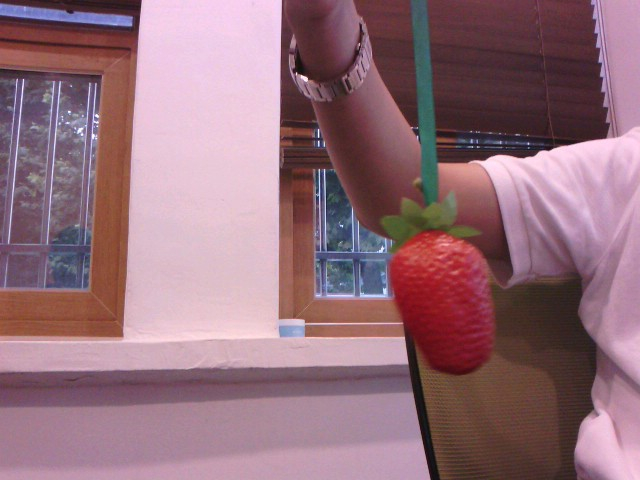strawberry: (383, 218, 496, 378)
